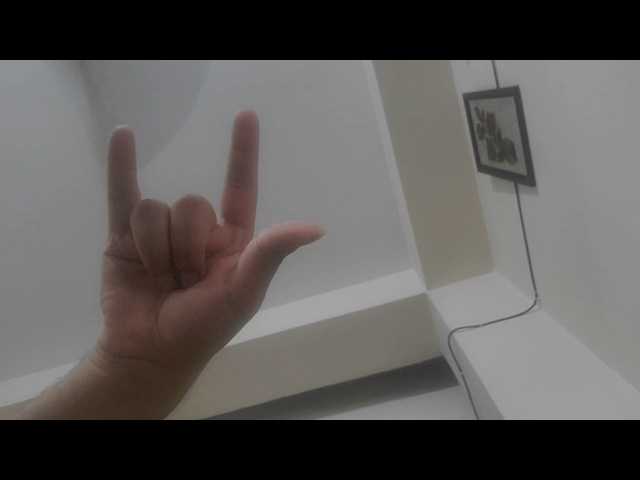I love you: (76, 103, 332, 389)
